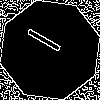I: (25, 25, 72, 60)
